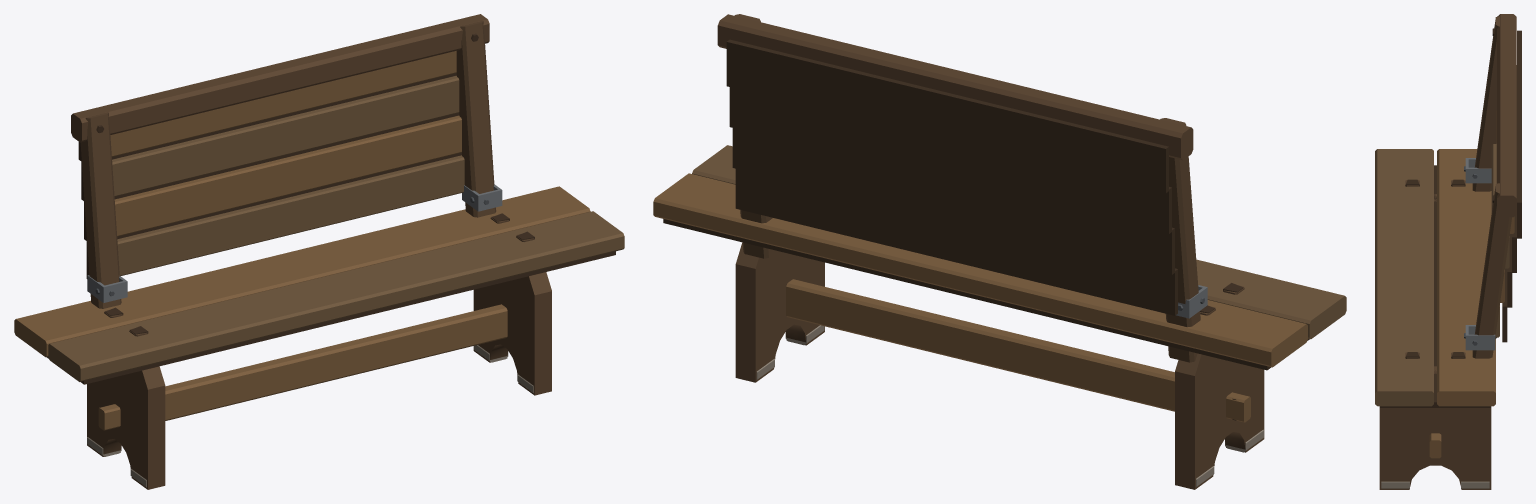
File: SM_LPD_Furn_BenchBacked_01.fbx
3 views of the same model, side by side, from view 1: azimuth 30°, elevation 25°; view 2: azimuth 150°, elevation 25°; view 3: azimuth 270°, elevation 25° (orthographic). The views are drawn at different scales.
Visible parts, largest first — view 1: SM_LPD_Furn_BenchBacked_01; view 2: SM_LPD_Furn_BenchBacked_01; view 3: SM_LPD_Furn_BenchBacked_01.
Part boxes in pixels (box(x1,y1,x2,y2)): SM_LPD_Furn_BenchBacked_01: box(14, 14, 624, 489); SM_LPD_Furn_BenchBacked_01: box(653, 14, 1346, 489); SM_LPD_Furn_BenchBacked_01: box(1375, 14, 1521, 489).
Bounding box in the file's own units: 1.8 × 1.02 × 0.4613.
